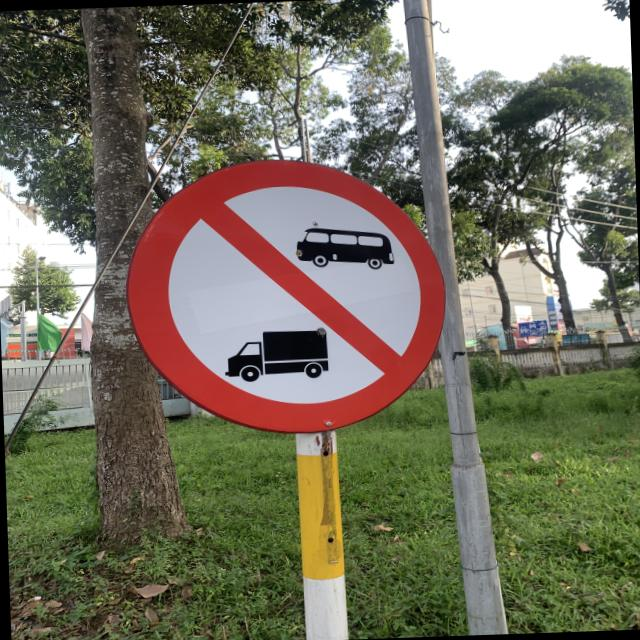Cam_XeTai_XeKhach: (124, 147, 458, 436)
